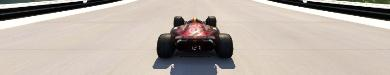Car: (156, 15, 233, 58)
curve: (0, 0, 389, 74)
obstacles-Borders: (0, 0, 127, 21)
